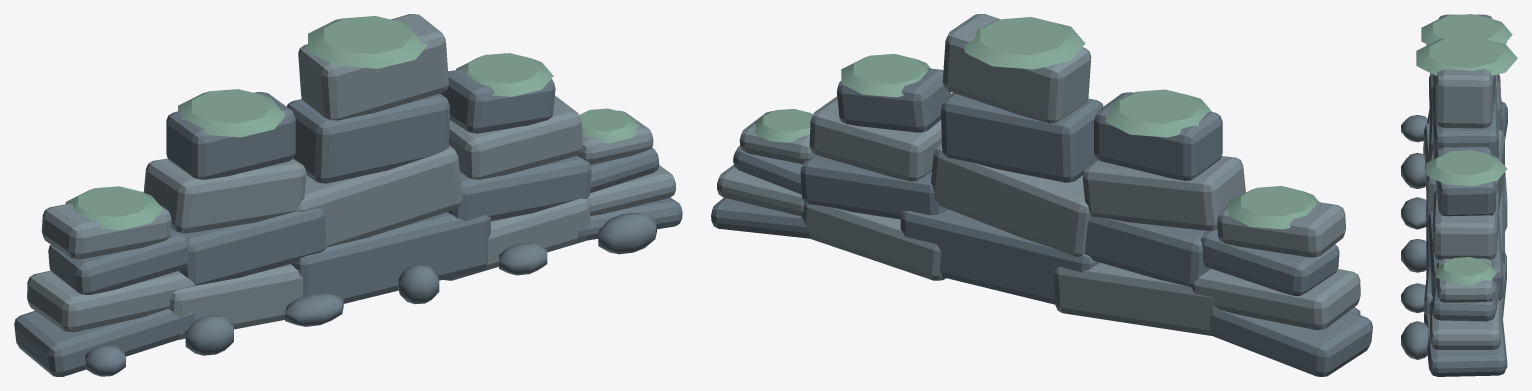
The model's file is cliff.glb.
3 views of the same model, side by side, from view 1: azimuth 30°, elevation 25°; view 2: azimuth 150°, elevation 25°; view 3: azimuth 270°, elevation 25° (orthographic). The views are drawn at different scales.
Parts seen in each view (by area): view 1: cliff_Palette; view 2: cliff_Palette; view 3: cliff_Palette.
Boxes of the visible parts, x1,y1,x2,y2 form: cliff_Palette: (14, 14, 682, 376); cliff_Palette: (711, 14, 1372, 376); cliff_Palette: (1401, 14, 1517, 376).
Size of the model in its own units: 6.97 by 2.65 by 1.34.
